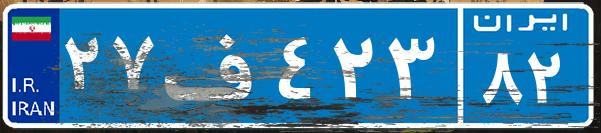2: (330, 28, 385, 110), (57, 26, 110, 107), (525, 38, 570, 115)
3: (385, 28, 445, 110)
4: (273, 28, 330, 110)
7: (110, 28, 158, 105)
8: (475, 38, 525, 113)
ف: (158, 15, 273, 115)
